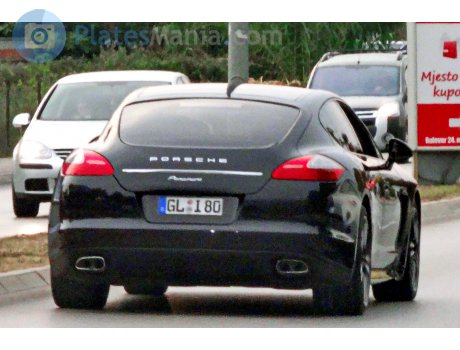License Plates: (166, 197, 221, 212)
